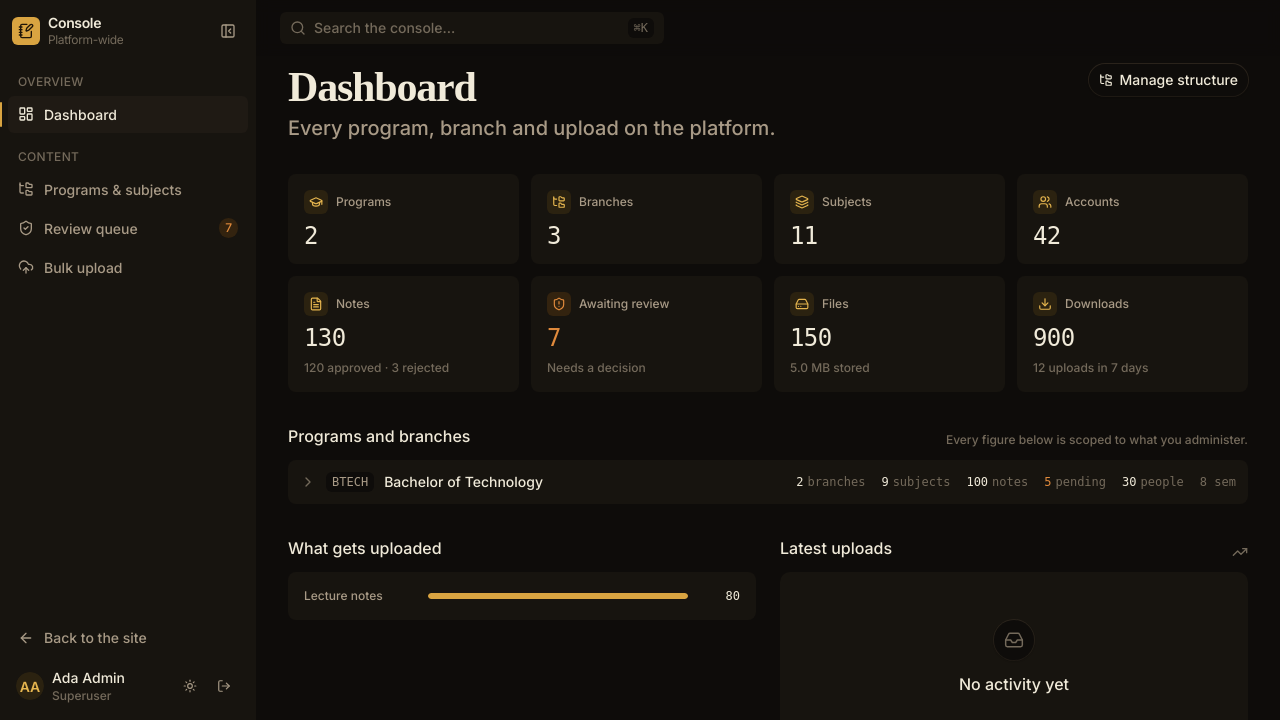
Scenario: dashboard › reports the totals and the program tree, with branches behind a disclosure
This screenshot has width=1280, height=720.
Expected: the heading "Dashboard" is shown, [288, 64, 476, 110]
Expected: the text "42" is shown, [1033, 222, 1061, 250]
Click the button "BTECH Bachelor of Technology". click: (540, 482)
box: [300, 472, 780, 492]
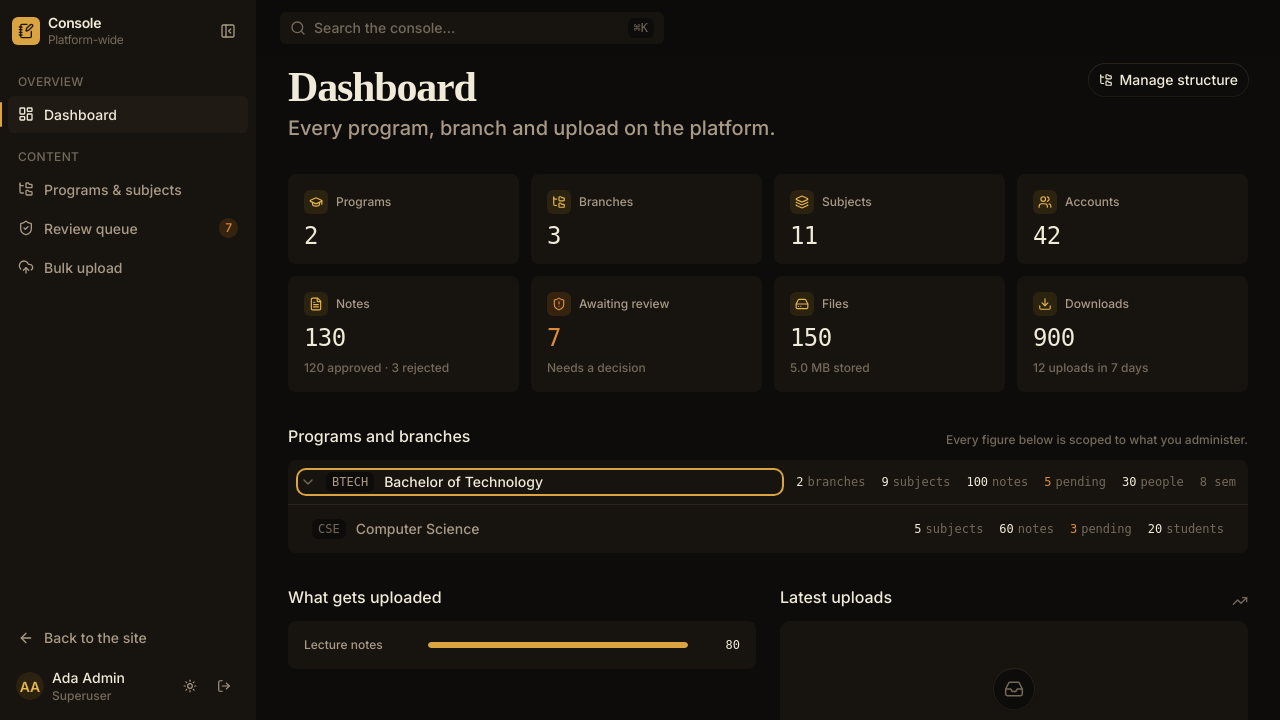
Result: the text "Computer Science" is shown at [356, 519, 480, 539]
